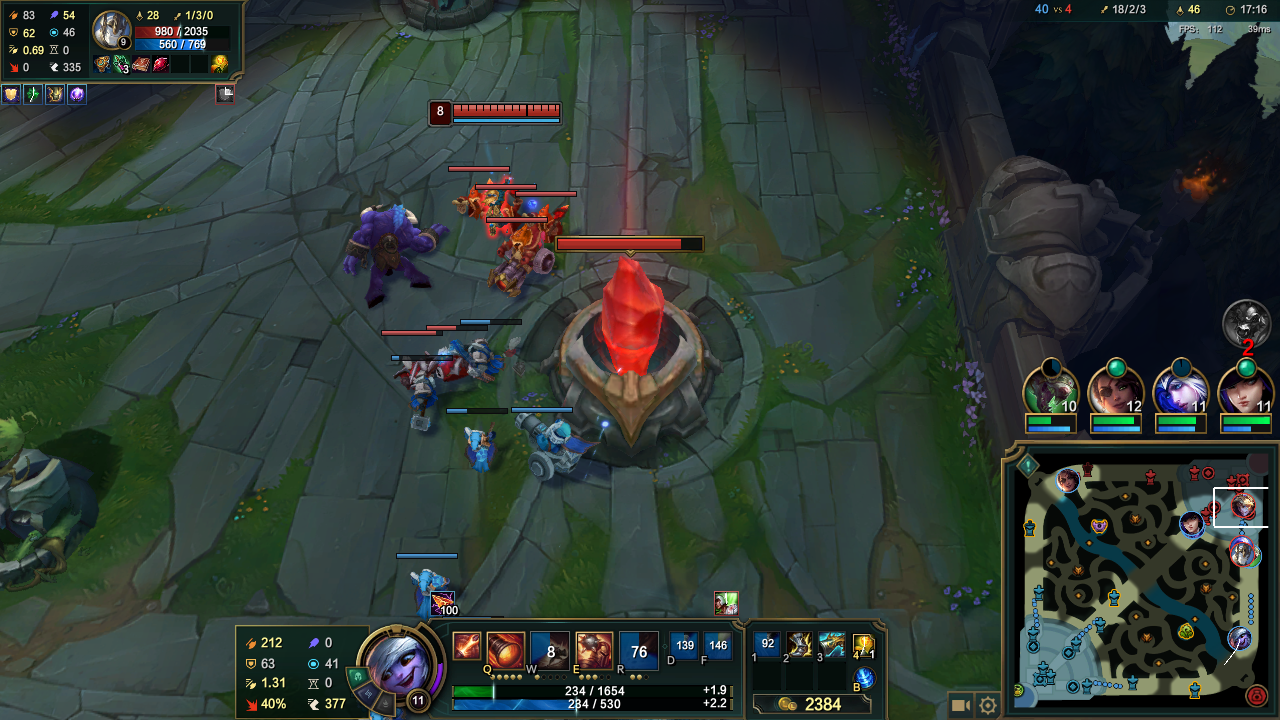DFSJ: (550, 259, 722, 453)
DFXB: (487, 226, 555, 298), (526, 202, 577, 242), (485, 195, 535, 233), (455, 188, 502, 227), (429, 352, 477, 387), (397, 360, 439, 391)
DFYX: (452, 105, 535, 124)
WFXB: (511, 413, 598, 493), (465, 337, 520, 397), (454, 422, 507, 470), (406, 569, 444, 614)
